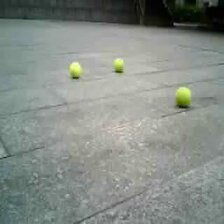tennis: (173, 87, 191, 107), (112, 58, 125, 71), (69, 63, 81, 77)
